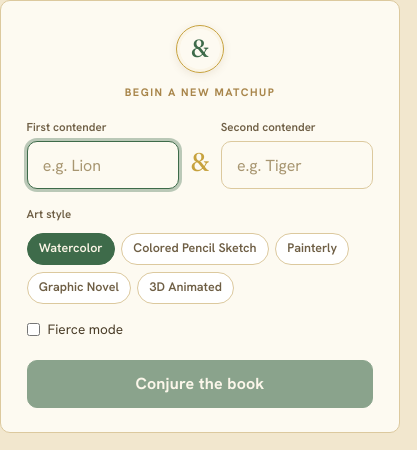
Scenario: MatchupComposer › submits the trimmed values and resets the form (inline)
This screenshot has width=417, height=450.
In the field labelled "First contender": [103, 165] box [27,141,179,189], type "Lion"
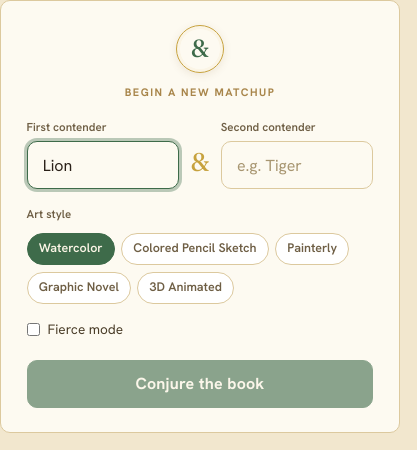
In the field labelled "Second contender": [297, 165] box [221,141,373,189], type "Tiger"
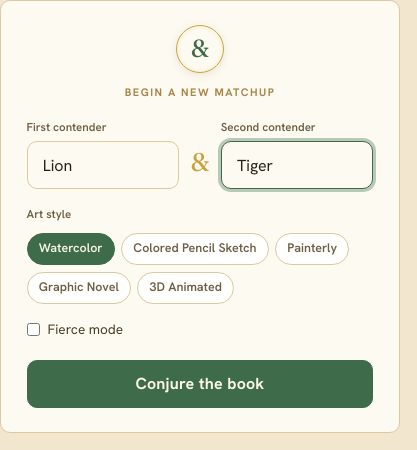
Click the radio button labelled "Graphic Novel": [79, 288] box [27,271,131,304]
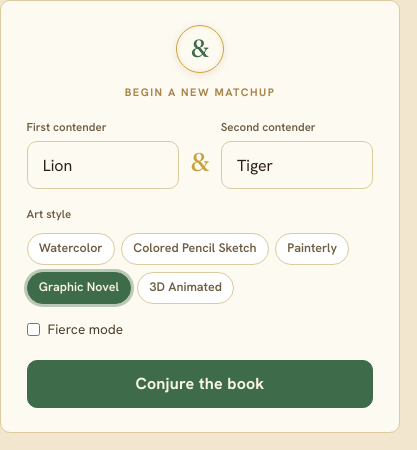
Click the checkbox labelled "Fierce mode": [33, 330] box [27,323,40,336]
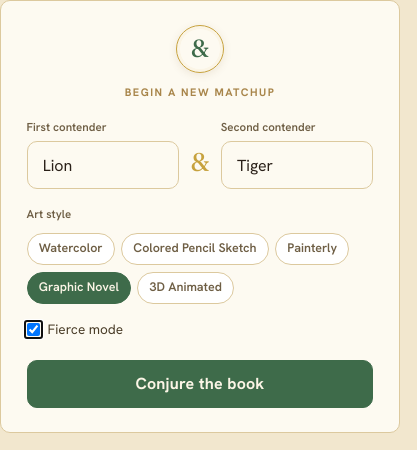
Click the button "Conjure the book": [200, 384] box [27,360,373,408]
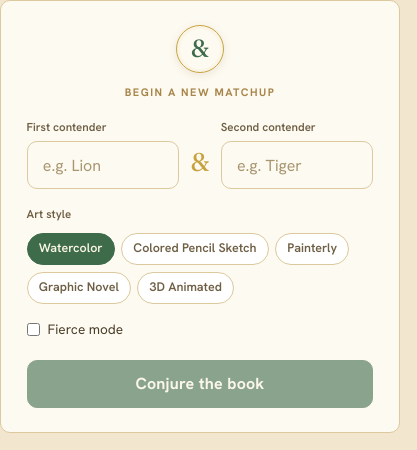
Result: the field labelled "First contender" is empty at [27,141,179,189]
Result: the field labelled "Second contender" is empty at [221,141,373,189]
Result: the radio button labelled "Watercolor" is checked at [27,232,115,265]
